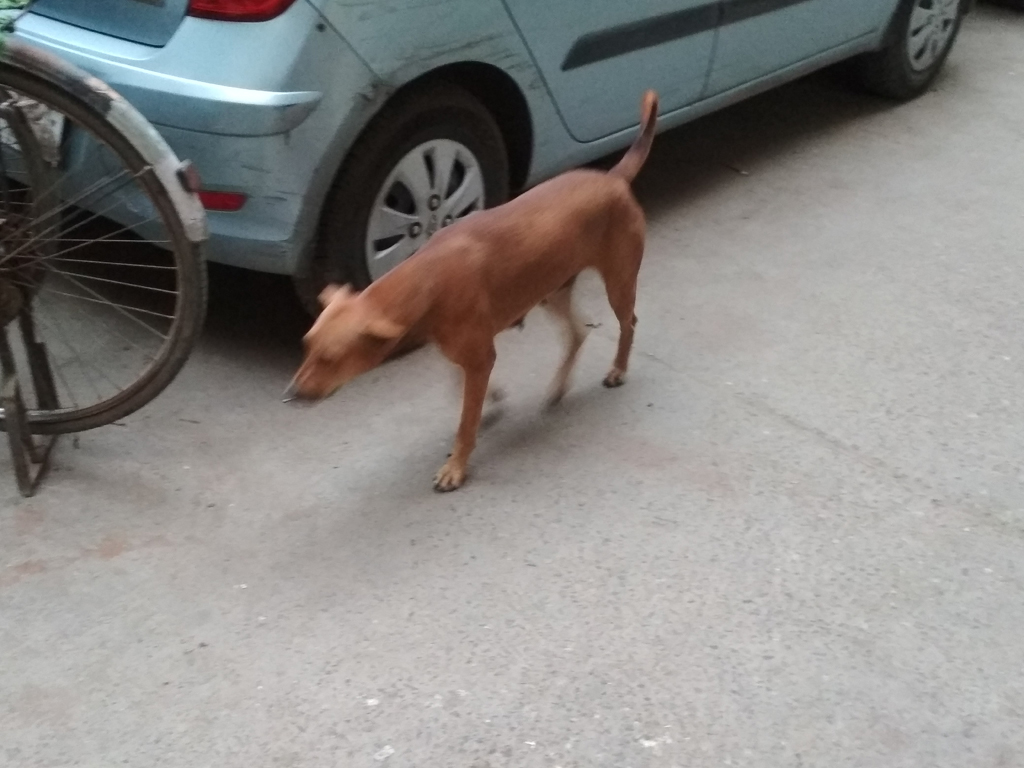dog: (281, 89, 661, 492)
